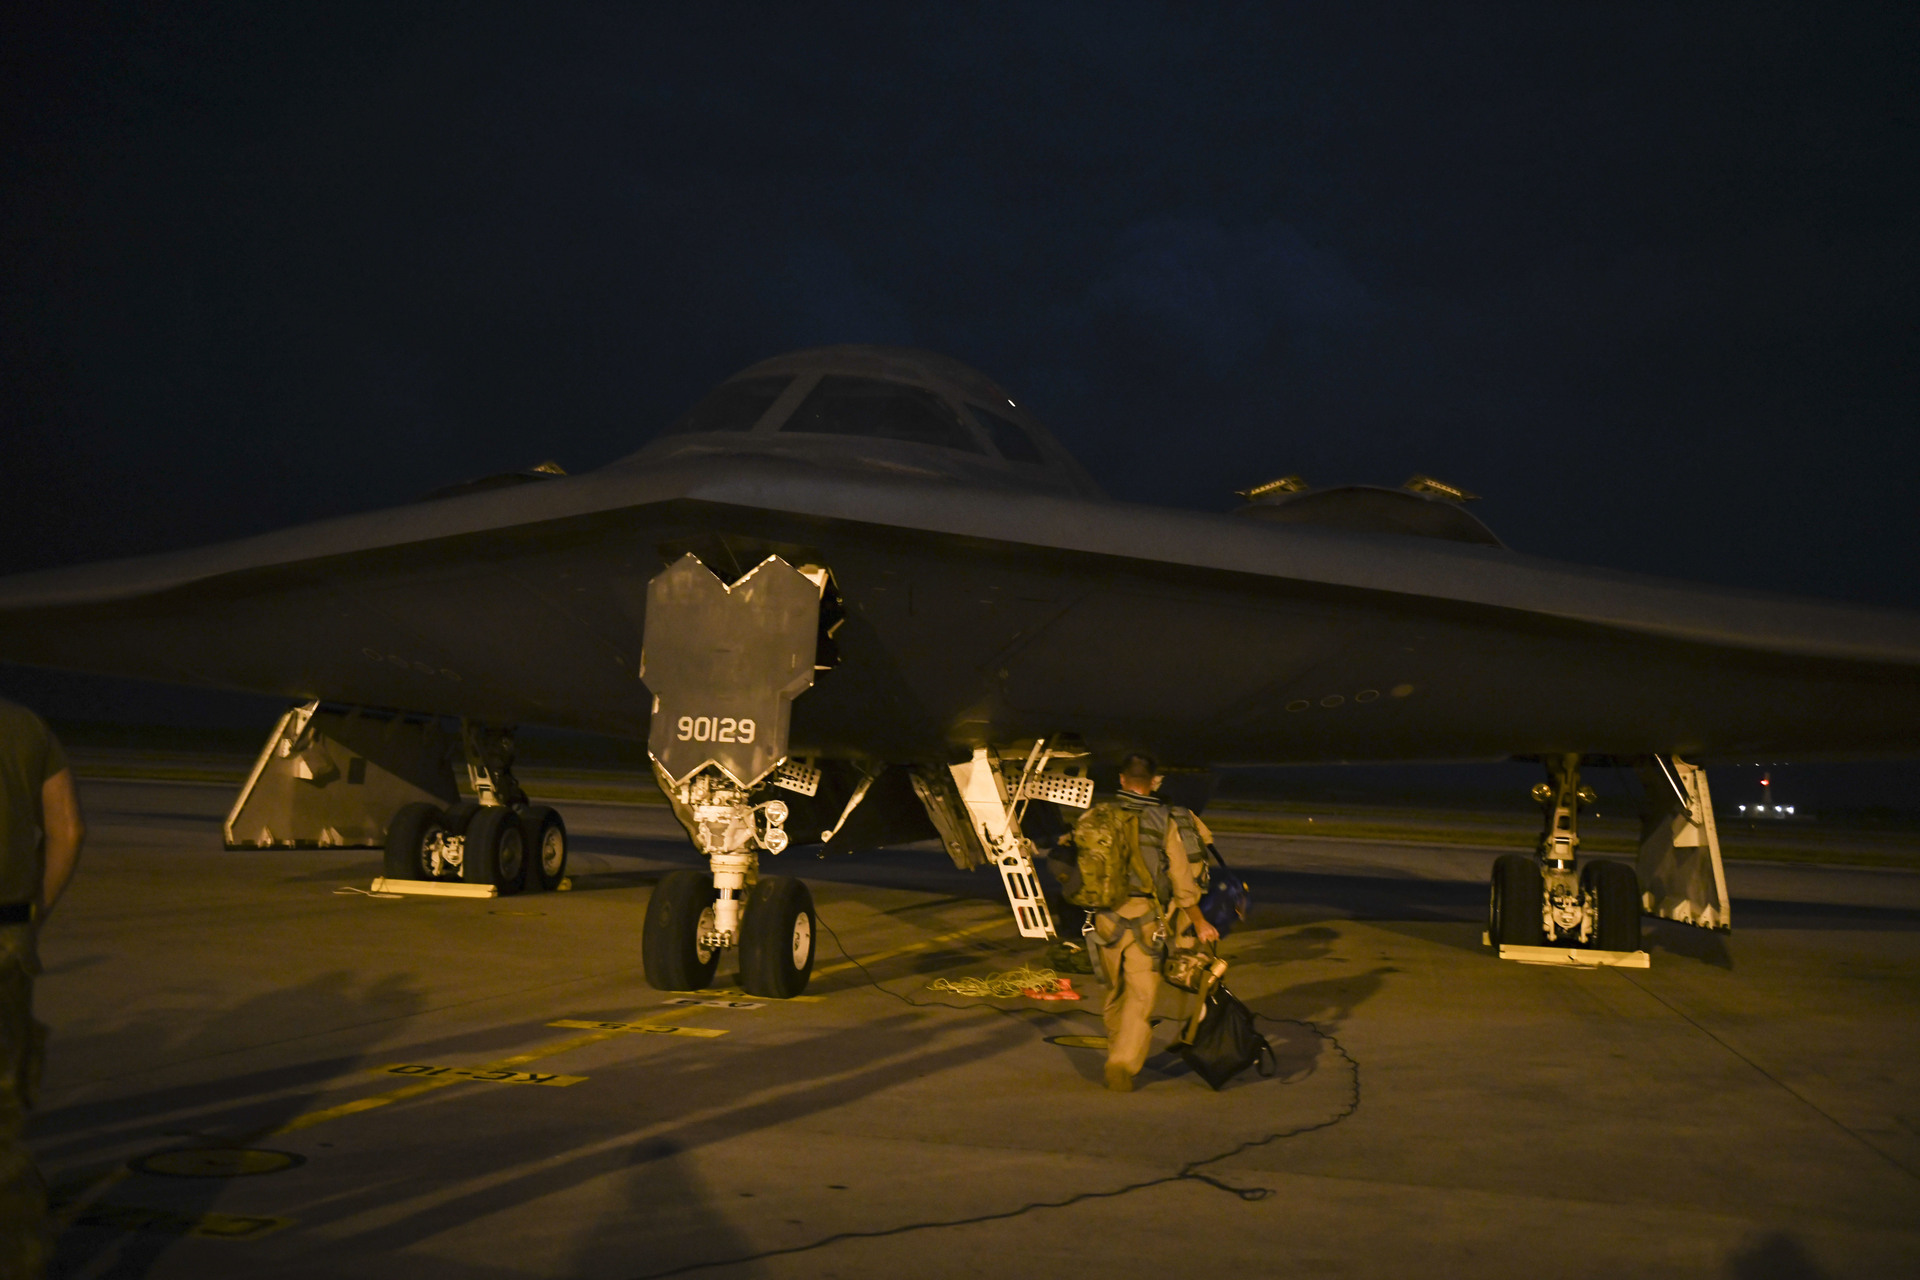B2: (1, 344, 1920, 999)
